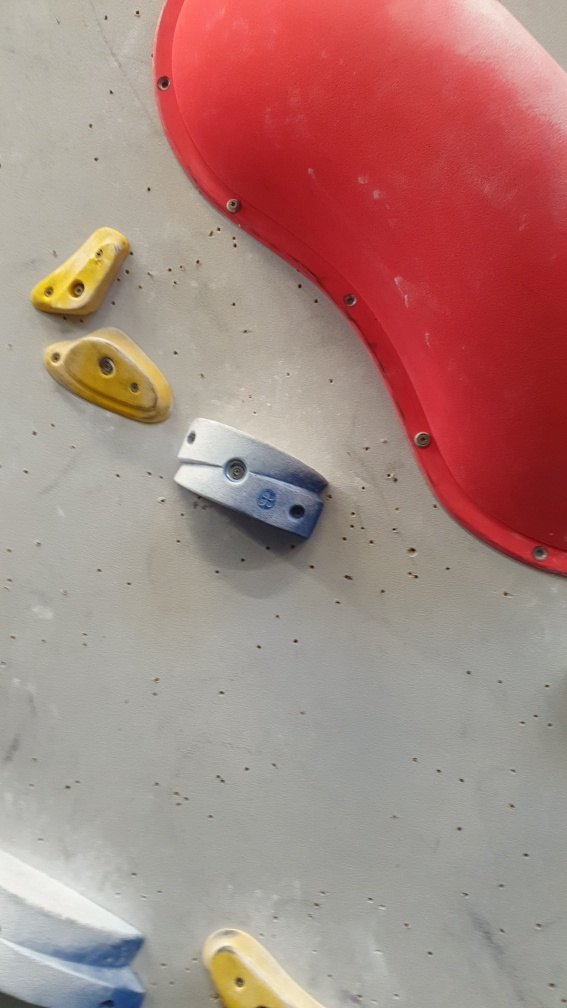Crimp: (58, 327, 170, 426), (199, 930, 312, 1008), (38, 237, 130, 318)
Pinch: (1, 842, 150, 1007), (172, 414, 331, 542)
